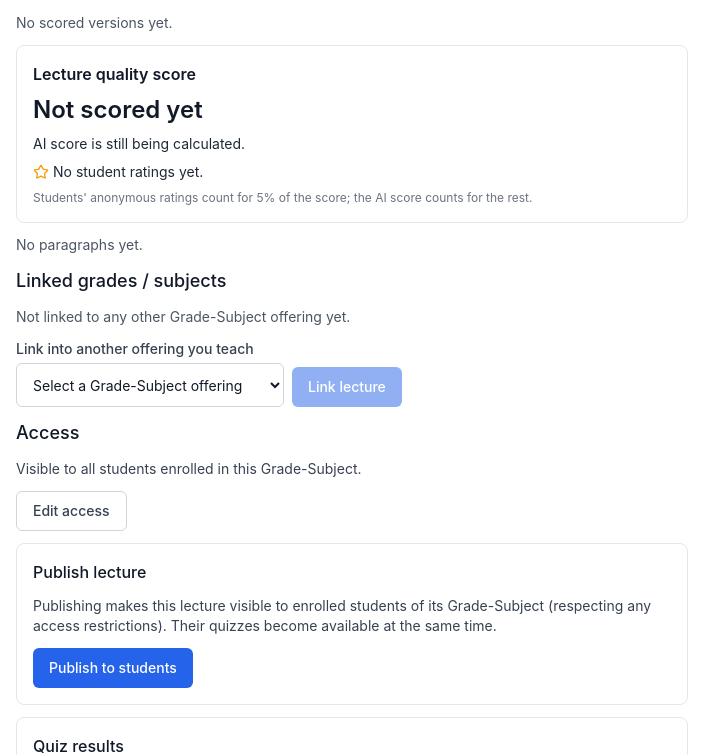
LectureLinksPanel (T-122) › links the lecture into another owned offering
(page scrolled)
Check: the text "Not linked to any other Grade-Subject offering yet." is shown, box [16, 308, 350, 325]
Step 1. Select "Grade 8 · Chemistry (2025-2026)" in the dropdown labelled "Link into another offering you teach" → (150, 385), box [16, 363, 284, 407]
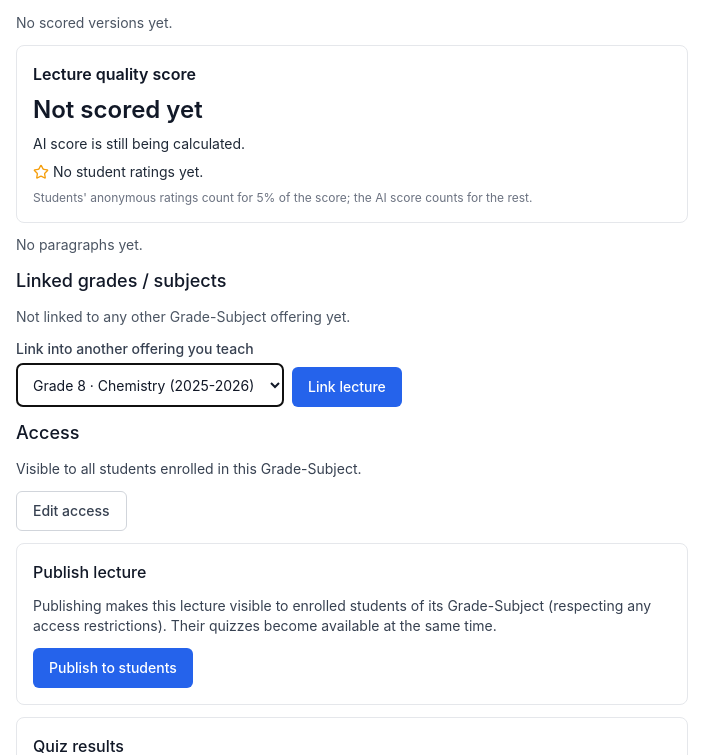
Step 2. Click the button "Link lecture" → (347, 387), box [292, 367, 402, 407]
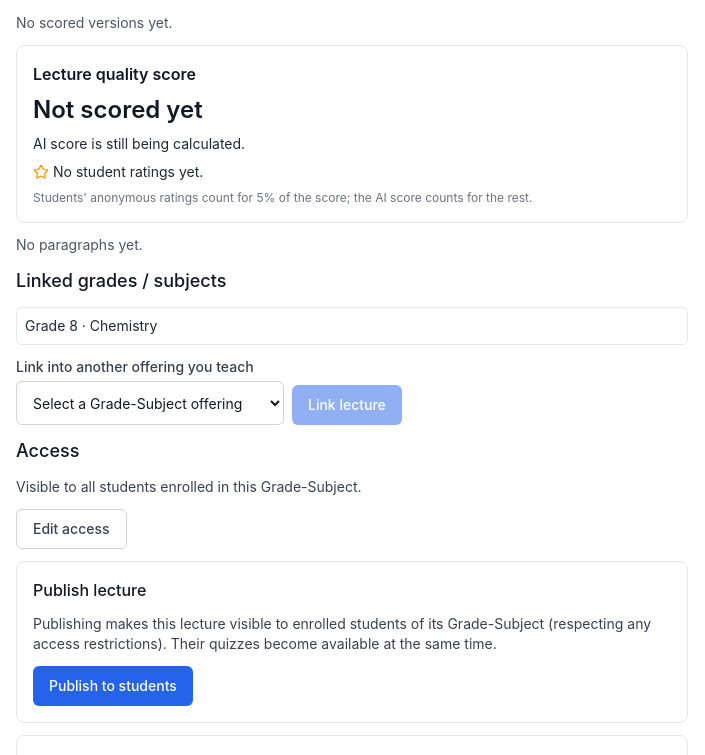
Check: the list item "Grade 8 · Chemistry" is shown, box [16, 307, 688, 345]
